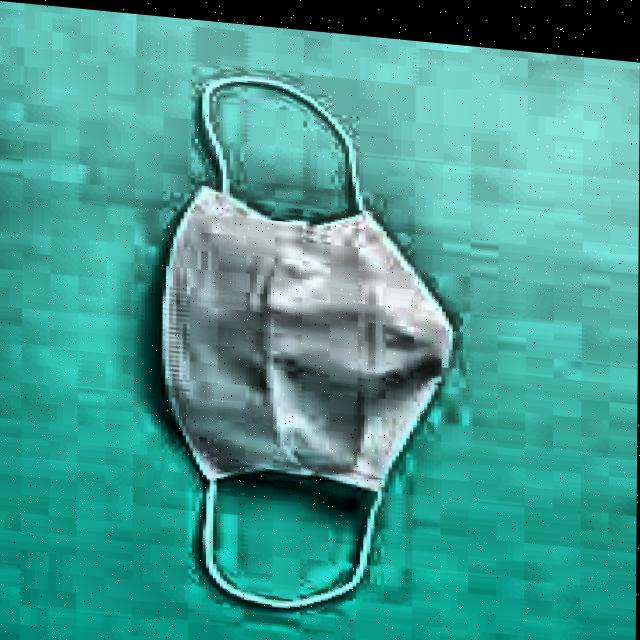trash: (145, 176, 465, 514)
